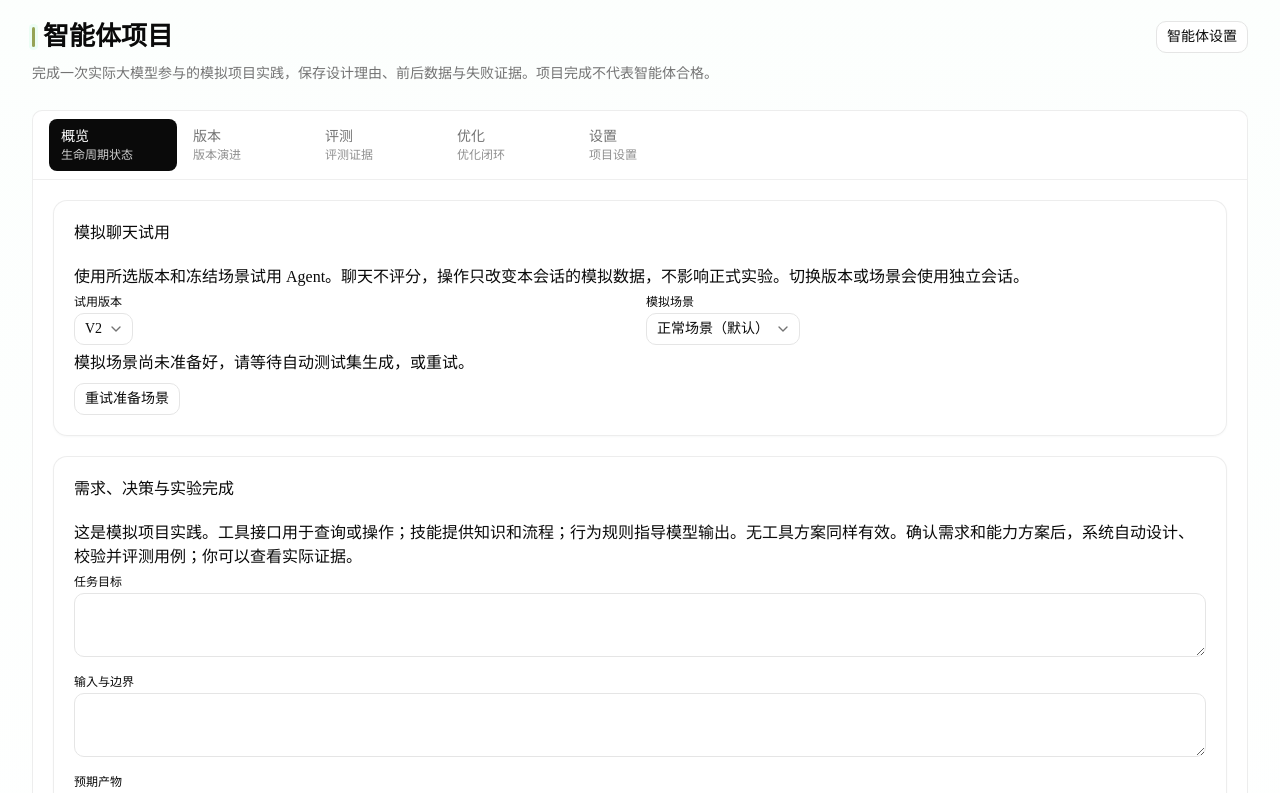
Test case: compares two versions without treating different datasets as comparable
Click the button "版本 版本演进".
click(245, 144)  # box [181,118,309,170]
(page scrolled)
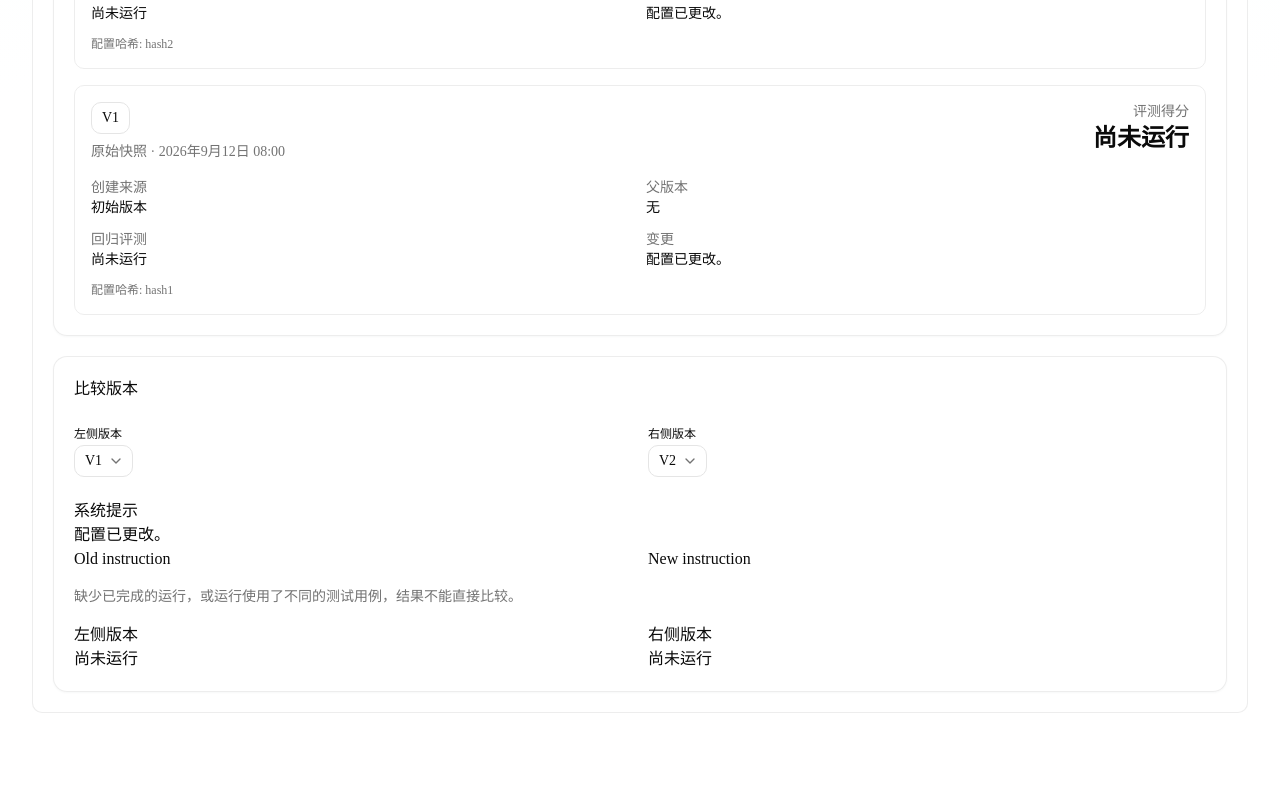
Result: the text "Old instruction" is shown at [74,550,170,566]
Result: the text "New instruction" is shown at [648,550,751,566]
Result: the text "缺少已完成的运行，或运行使用了不同的测试用例，结果不能直接比较。" is shown at [74,588,522,604]
